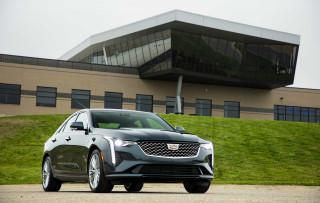cadillac: (165, 141, 183, 152)
